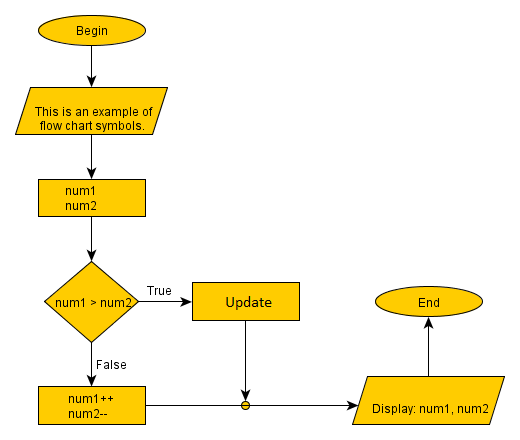arrow: (145, 400, 360, 412), (239, 319, 252, 402), (421, 318, 435, 378), (85, 134, 99, 181), (136, 295, 193, 306), (85, 215, 97, 262), (85, 46, 97, 87)
connection: (238, 398, 253, 411)
data: (14, 85, 170, 138), (351, 374, 507, 427)
decision: (43, 262, 141, 342)
process: (35, 384, 149, 427), (190, 280, 302, 323), (36, 177, 150, 219)
terminator: (37, 12, 149, 48), (373, 284, 485, 319)
text: (35, 104, 155, 133), (371, 401, 492, 417), (53, 294, 135, 312), (65, 392, 115, 420), (62, 184, 99, 212), (223, 293, 274, 312), (75, 23, 109, 38), (95, 358, 129, 371), (145, 284, 175, 298), (417, 295, 443, 310)
